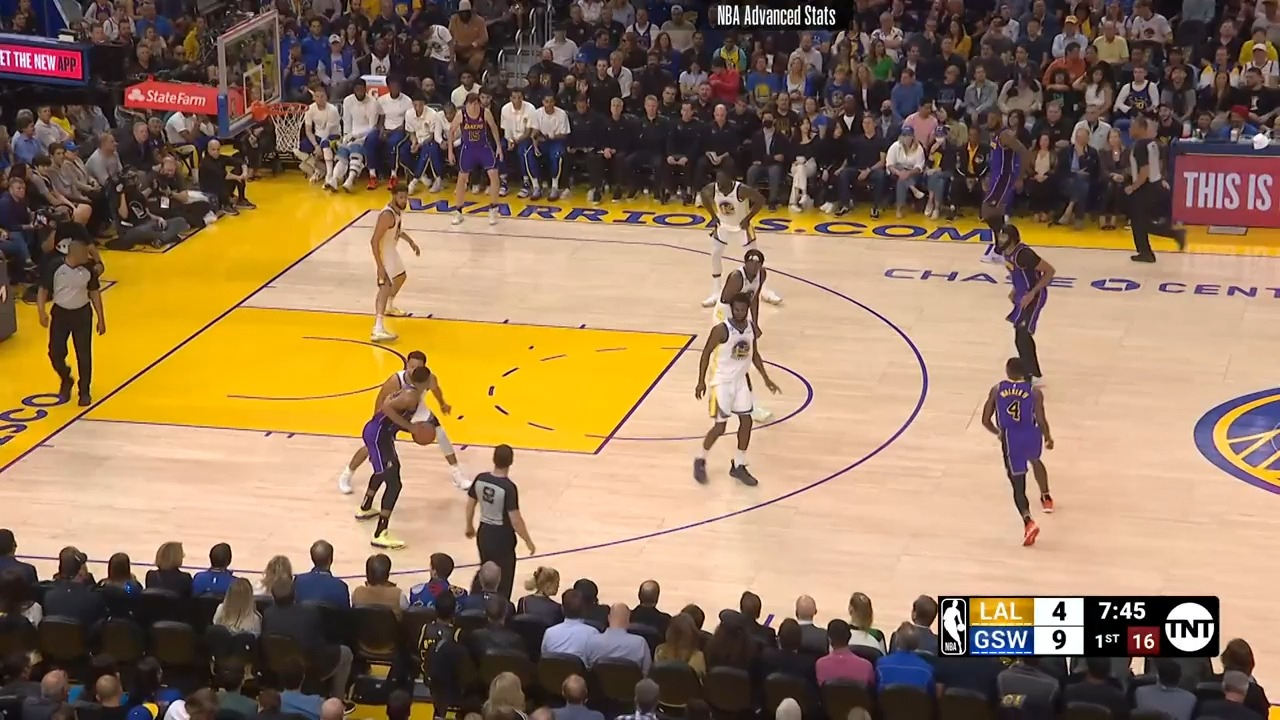net: (252, 97, 314, 147)
player: (349, 352, 472, 557), (693, 295, 782, 495), (981, 356, 1056, 554), (977, 222, 1059, 398), (367, 181, 434, 345), (695, 167, 773, 299), (444, 96, 507, 233)
referee: (35, 228, 110, 411), (462, 439, 543, 578), (1120, 114, 1185, 266)
